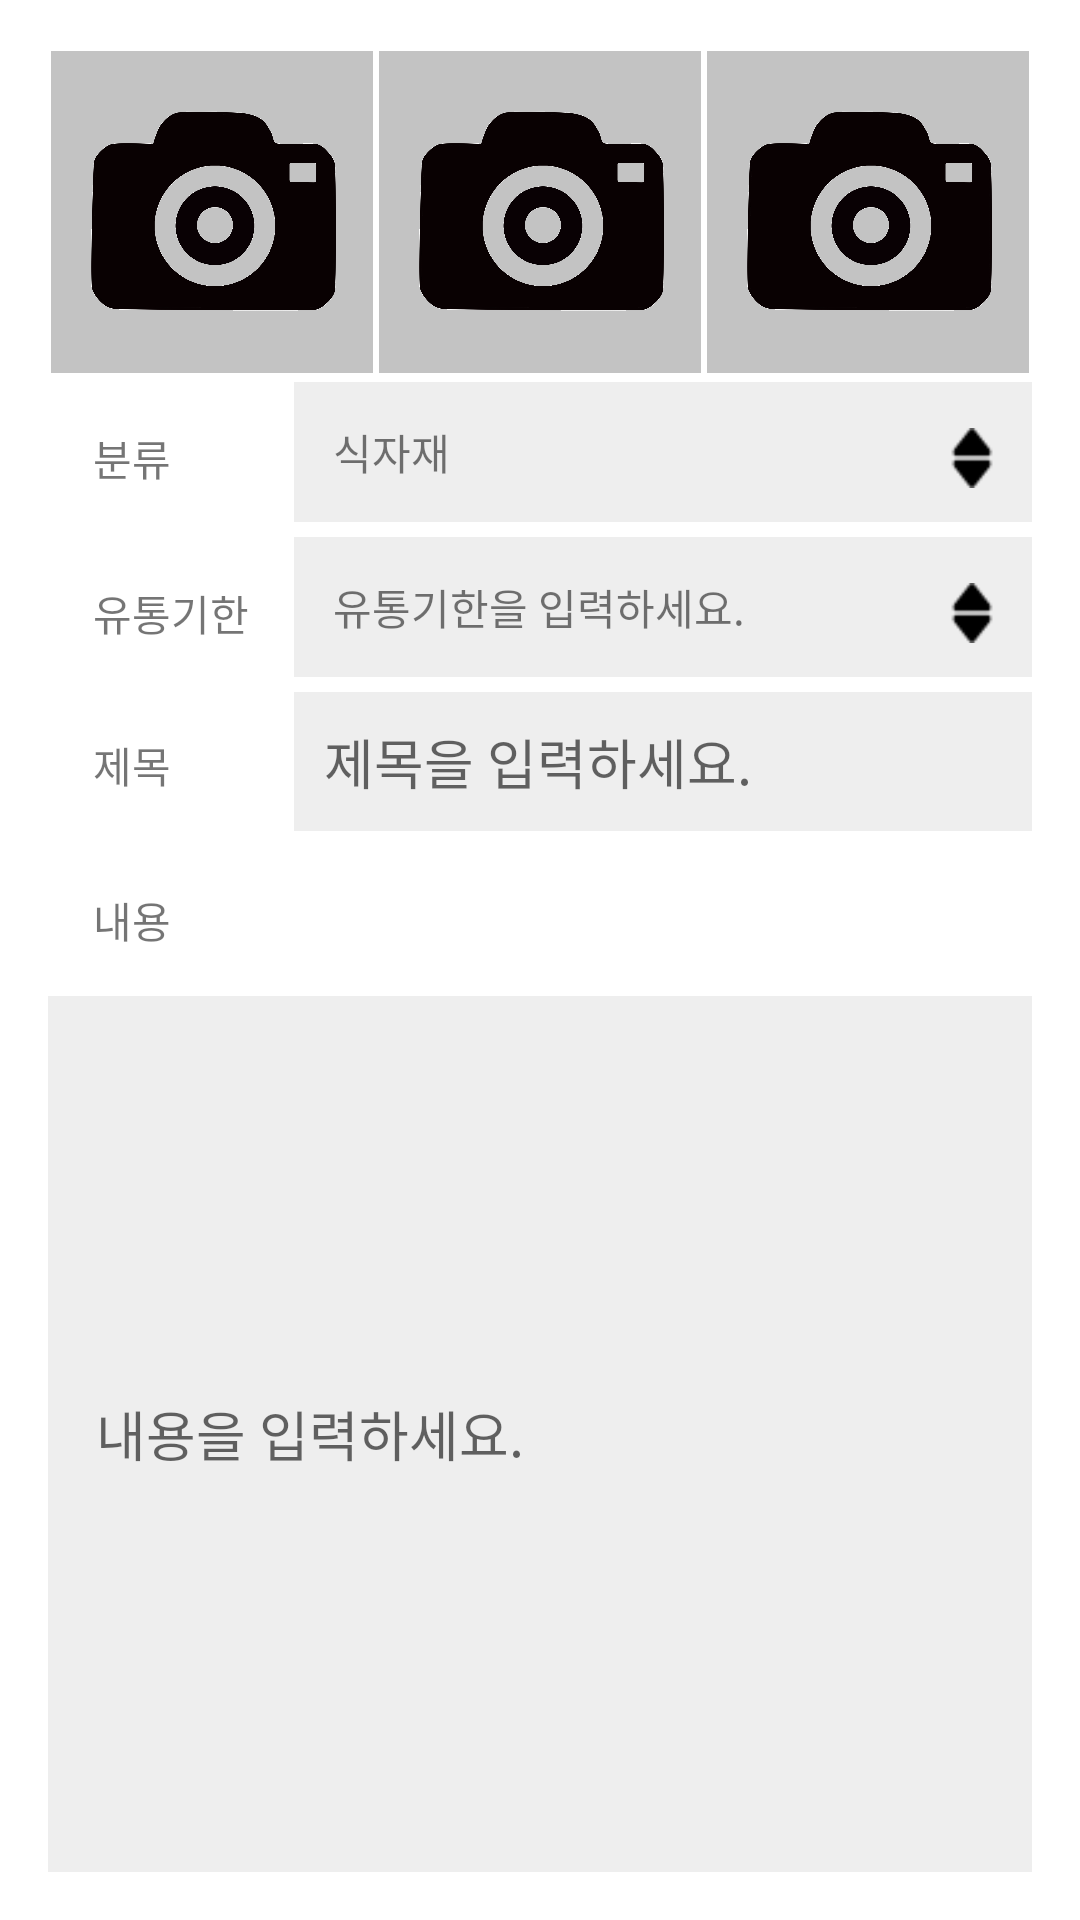

Icon click points for this 1080×1920 phone screenshot, format point (x, y):
arrow updown: point (972, 458), point (972, 613)
emptyimage: point (212, 212), point (540, 212), point (868, 212)
